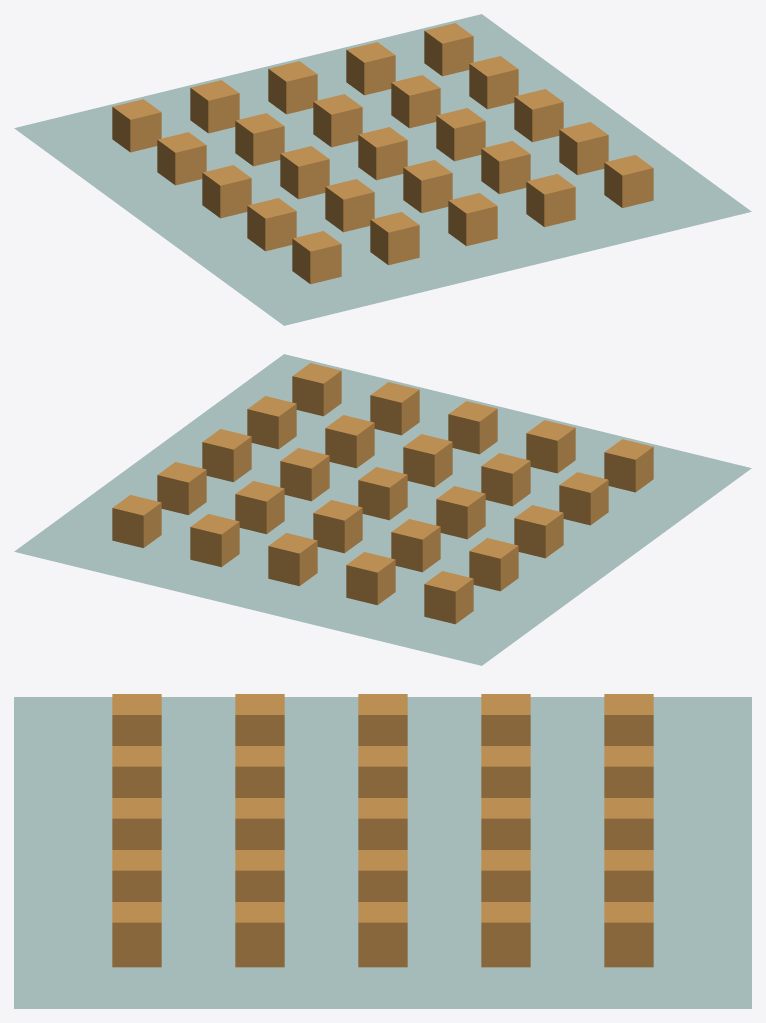
Rendered from grid2_env.dae.
The picture shows the model from 3 angles, top to bottom: view 1: azimuth 30°, elevation 25°; view 2: azimuth 150°, elevation 25°; view 3: azimuth 270°, elevation 25°; orthographic projection. The views are drawn at different scales.
Visible parts, largest first — view 1: Plane, Cube_004, Cube_024, Cube_005, Cube_015, Cube_014, Cube_002, Cube_003, Cube_006, Cube_009, Cube_013, Cube_016 (+14 smaller); view 2: Plane, Cube_003, Cube_023, Cube_006, Cube_016, Cube_013, Cube_001, Cube_004, Cube_005, Cube_009, Cube_014, Cube_015 (+14 smaller); view 3: Plane, Cube_010, Cube_011, Cube_012, Cube_013, Cube_014, Cube, Cube_001, Cube_002, Cube_003, Cube_004, Cube_005 (+14 smaller).
Boxes of the visible parts, <box> form: Plane: <box>14,14,751,325</box>; Cube_004: <box>448,193,497,246</box>; Cube_024: <box>292,231,341,284</box>; Cube_005: <box>526,174,575,227</box>; Cube_015: <box>370,212,419,265</box>; Cube_014: <box>604,155,653,207</box>; Cube_002: <box>313,94,362,147</box>; Cube_003: <box>268,61,317,114</box>; Cube_006: <box>346,42,395,95</box>; Cube_009: <box>436,108,485,161</box>; Cube_013: <box>424,23,473,76</box>; Cube_016: <box>190,80,239,133</box>; Plane: <box>14,354,751,665</box>; Cube_003: <box>268,533,317,586</box>; Cube_023: <box>424,571,473,624</box>; Cube_006: <box>190,514,239,567</box>; Cube_016: <box>346,552,395,605</box>; Cube_013: <box>112,495,161,547</box>; Cube_001: <box>403,434,452,487</box>; Cube_004: <box>448,401,497,454</box>; Cube_005: <box>370,382,419,435</box>; Cube_009: <box>280,448,329,501</box>; Cube_014: <box>292,363,341,416</box>; Cube_015: <box>526,420,575,473</box>; Plane: <box>14,697,751,1008</box>; Cube_010: <box>358,902,407,967</box>; Cube_011: <box>235,902,284,967</box>; Cube_012: <box>481,902,530,967</box>; Cube_013: <box>604,902,653,967</box>; Cube_014: <box>112,902,161,967</box>; Cube: <box>358,798,407,849</box>; Cube_001: <box>235,798,284,849</box>; Cube_002: <box>481,798,530,849</box>; Cube_003: <box>604,798,653,849</box>; Cube_004: <box>112,798,161,849</box>; Cube_005: <box>112,850,161,901</box>.
Bounding box in the file's own units: 30 × 30 × 2.
